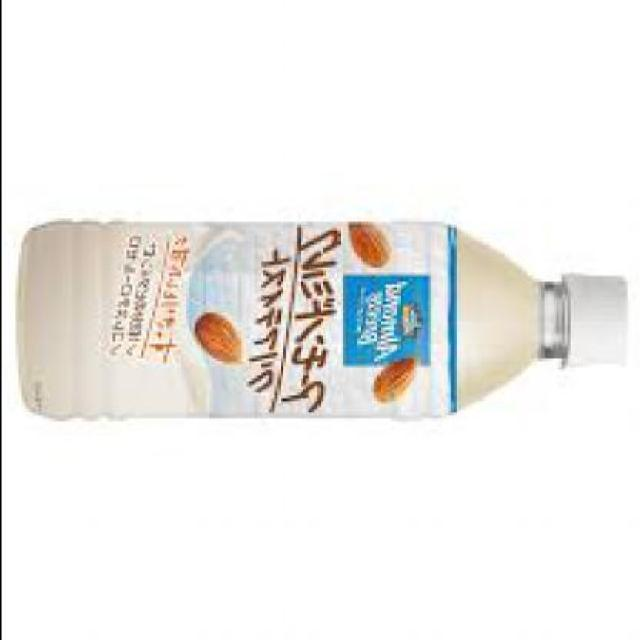PLASTIC: (19, 221, 568, 418), (564, 275, 628, 364)
